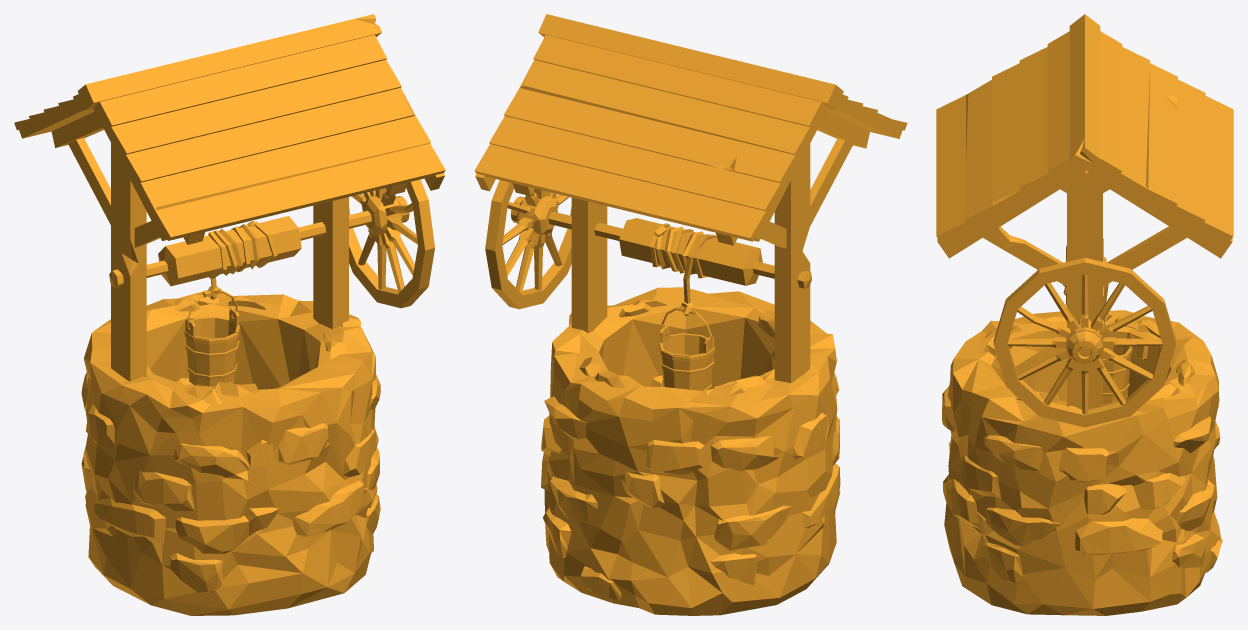
File: SM_Water_Well_A_Farm.fbx
3 renders of one model, left to right at view 1: azimuth 30°, elevation 25°; view 2: azimuth 150°, elevation 25°; view 3: azimuth 270°, elevation 25°, orthographic. The views are drawn at different scales.
Parts seen in each view (by area): view 1: water-well-a-farm; view 2: water-well-a-farm; view 3: water-well-a-farm.
Part boxes in pixels (x1,y1,x2,y2): water-well-a-farm: (14, 14, 445, 615); water-well-a-farm: (474, 14, 907, 615); water-well-a-farm: (936, 14, 1233, 615).
Size of the model in its own units: 1.63 by 2.5 by 1.39.
